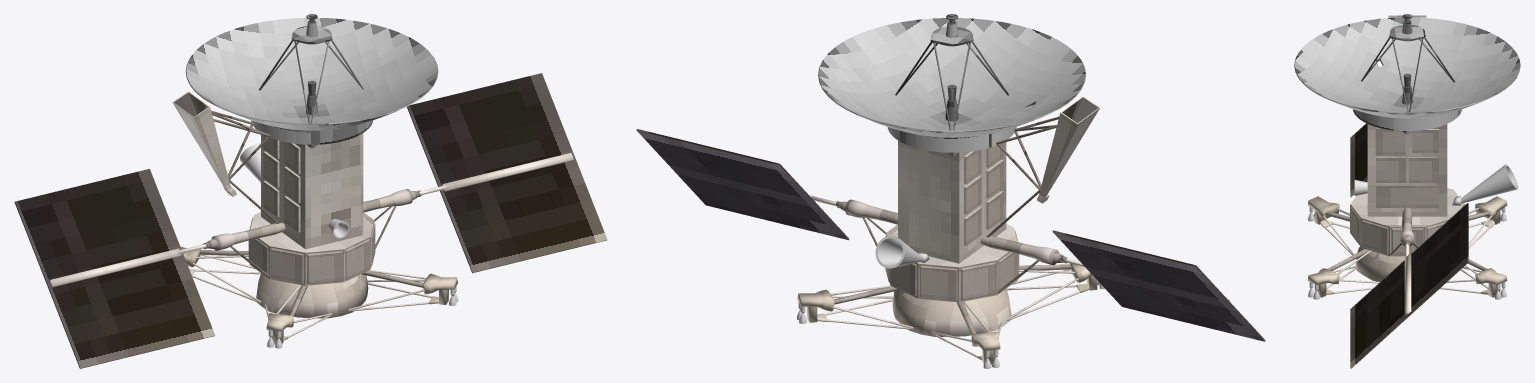
File: magellan.glb
3 renders of one model, left to right at view 1: azimuth 30°, elevation 25°; view 2: azimuth 150°, elevation 25°; view 3: azimuth 270°, elevation 25°, orthographic. The views are drawn at different scales.
Visible parts, largest first — view 1: tex_01, dish_etc, aluminum.001, aluminum; view 2: tex_01, dish_etc, shiny_panel, aluminum; view 3: tex_01, dish_etc, aluminum, aluminum.001.
Part boxes in pixels (x1=…): tex_01: x1=14, y1=73, x2=607, y2=368; dish_etc: x1=185, y1=14, x2=438, y2=148; aluminum.001: x1=267, y1=219, x2=458, y2=348; aluminum: x1=240, y1=143, x2=260, y2=182; tex_01: x1=636, y1=96, x2=1265, y2=364; dish_etc: x1=818, y1=14, x2=1086, y2=156; shiny_panel: x1=637, y1=130, x2=1264, y2=341; aluminum: x1=875, y1=235, x2=922, y2=268; tex_01: x1=1307, y1=15, x2=1507, y2=368; dish_etc: x1=1294, y1=14, x2=1520, y2=134; aluminum: x1=1461, y1=164, x2=1518, y2=203; aluminum.001: x1=1308, y1=180, x2=1506, y2=299.
Bounding box in the file's own units: 8.9 × 4.53 × 3.7.
Materials: 4 (3 with a texture image).
